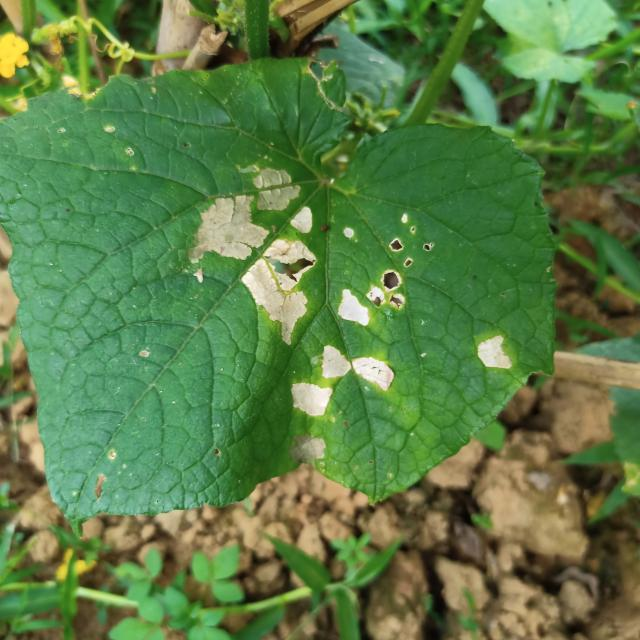disease_cucumber: (187, 153, 322, 352), (336, 205, 436, 334), (273, 340, 403, 418), (468, 329, 518, 374)
